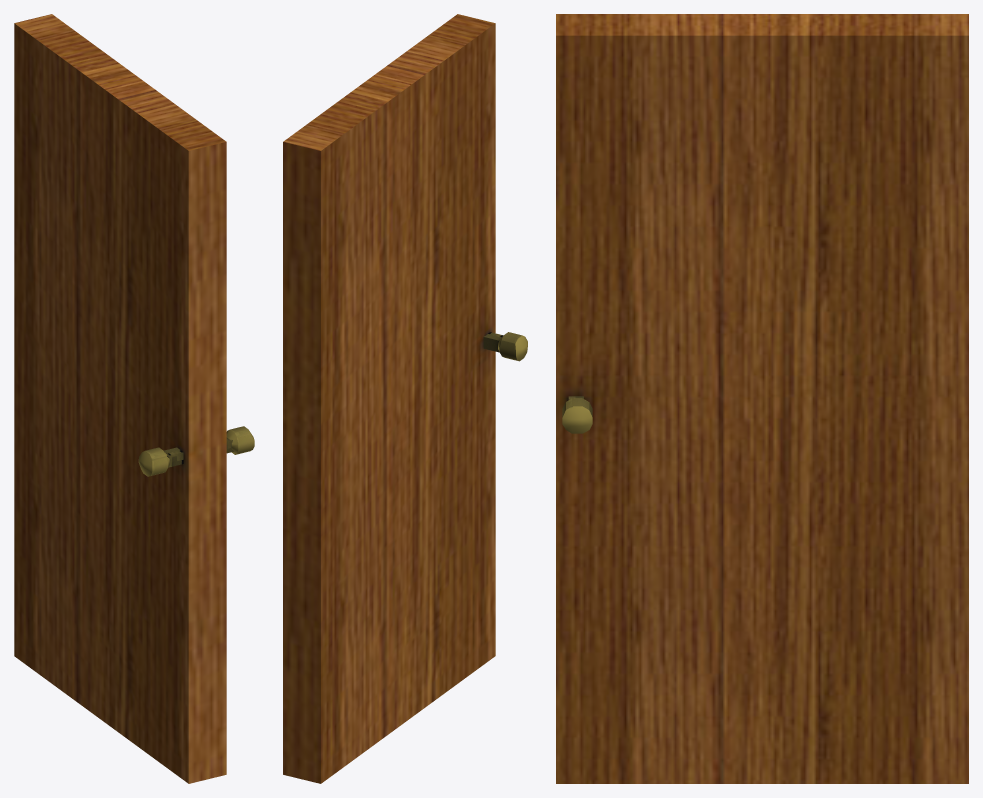
The model's file is DoorExport.fbx.
3 renders of one model, left to right at view 1: azimuth 30°, elevation 25°; view 2: azimuth 150°, elevation 25°; view 3: azimuth 270°, elevation 25°, orthographic. The views are drawn at different scales.
Visible parts, largest first — view 1: pCube4; view 2: pCube4; view 3: pCube4.
Boxes of the visible parts, x1=… form: pCube4: x1=14, y1=14, x2=254, y2=783; pCube4: x1=283, y1=14, x2=527, y2=783; pCube4: x1=556, y1=14, x2=968, y2=783.
Bounding box in the file's own units: 1.45 × 8 × 4.
